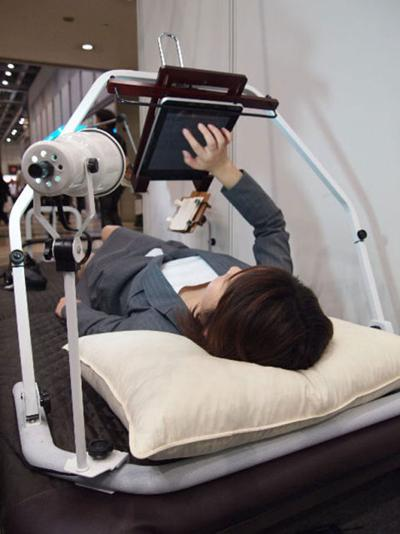person: (56, 120, 334, 373)
